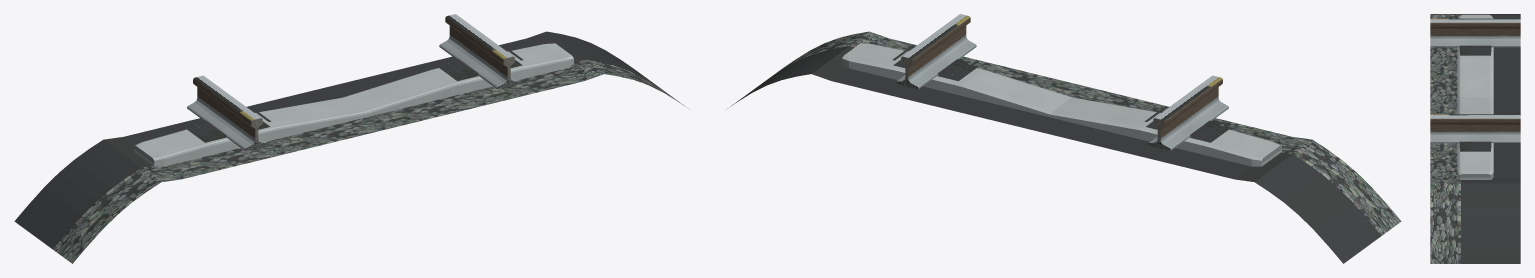
Rendered from rail_low.obj.
3 renders of one model, left to right at view 1: azimuth 30°, elevation 25°; view 2: azimuth 150°, elevation 25°; view 3: azimuth 270°, elevation 25°, orthographic. The views are drawn at different scales.
Parts seen in each view (by area): view 1: ballast, sleeper, rail_left, rail_right, fastener_left, fastener_right; view 2: ballast, sleeper, rail_left, rail_right, fastener_left, fastener_right; view 3: ballast, sleeper, rail_left, rail_right, fastener_left, fastener_right.
Part boxes in pixels (<box>): ballast: <box>14,31,688,263</box>; sleeper: <box>134,43,573,166</box>; rail_left: <box>187,75,266,150</box>; rail_right: <box>439,14,519,88</box>; fastener_left: <box>184,106,271,142</box>; fastener_right: <box>436,45,523,81</box>; ballast: <box>727,31,1401,263</box>; sleeper: <box>842,43,1281,166</box>; rail_left: <box>1149,75,1228,150</box>; rail_right: <box>896,14,976,88</box>; fastener_left: <box>1144,106,1231,142</box>; fastener_right: <box>892,45,979,81</box>; ballast: <box>1430,14,1520,263</box>; sleeper: <box>1457,14,1493,179</box>; rail_left: <box>1430,18,1520,47</box>; rail_right: <box>1430,114,1520,142</box>; fastener_left: <box>1459,45,1491,55</box>; fastener_right: <box>1459,141,1491,151</box>.
Bounding box in the file's own units: 3.7 × 0.5683 × 0.6.
